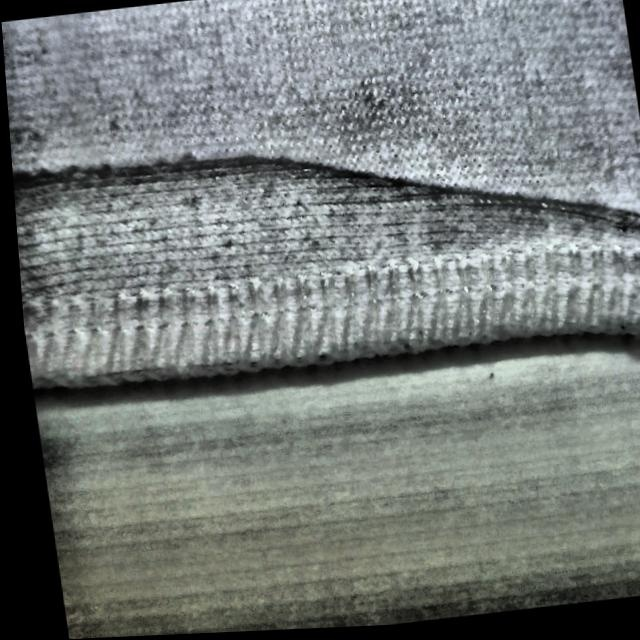seam: (2, 42, 621, 419)
